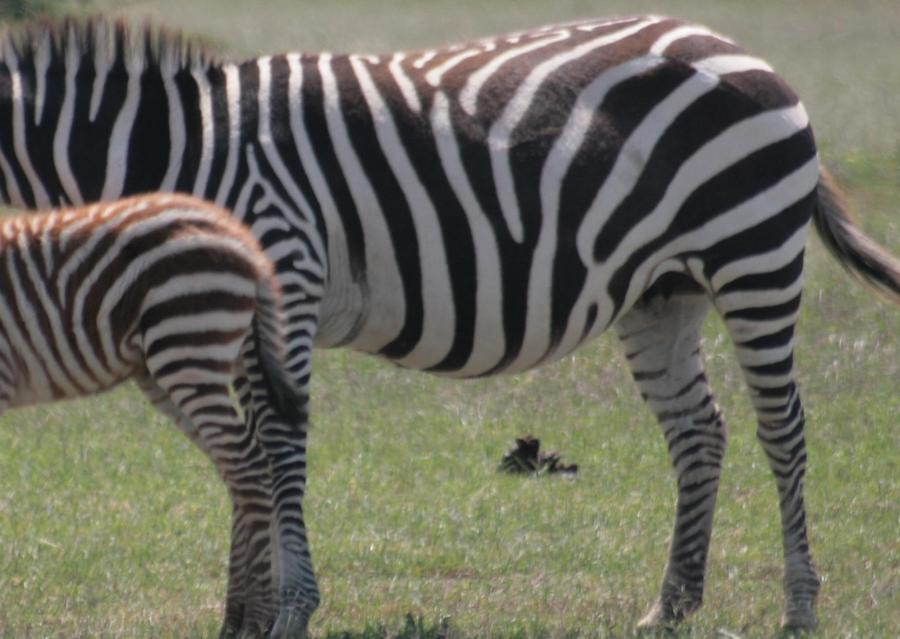zebra_plains: (203, 17, 842, 320)
